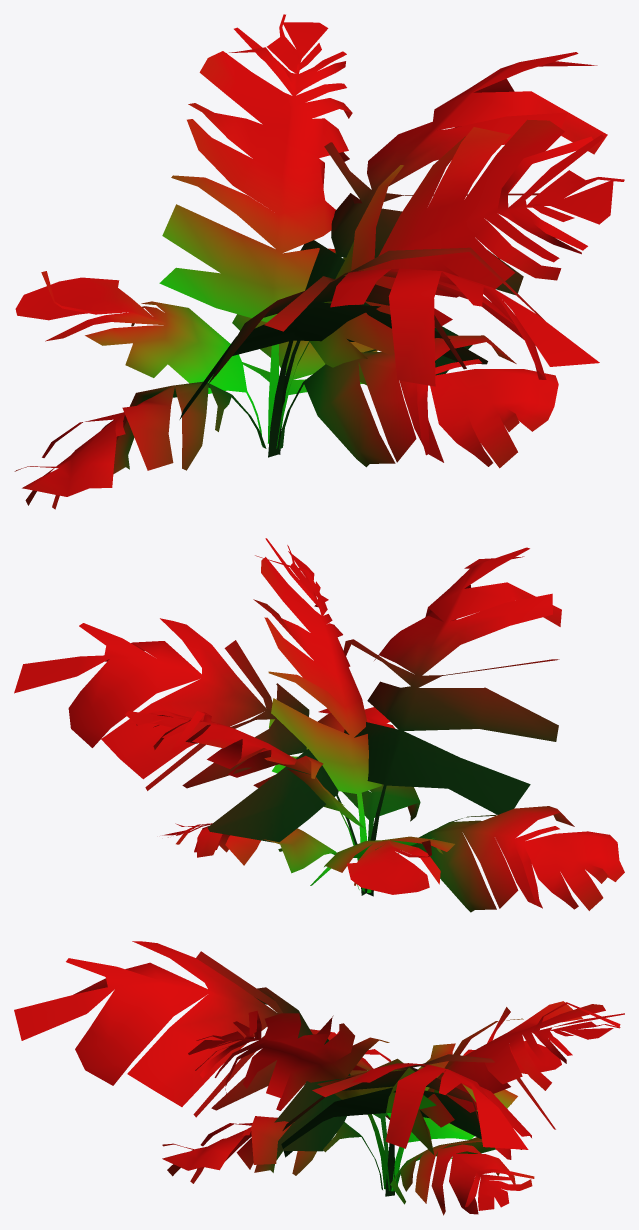
The model's file is Var3_LOD2.fbx.
3 views of the same model, one above another, from view 1: azimuth 30°, elevation 25°; view 2: azimuth 150°, elevation 25°; view 3: azimuth 270°, elevation 25° (orthographic). The views are drawn at different scales.
Visible parts, largest first — view 1: _3249_Var3_LOD2; view 2: _3249_Var3_LOD2; view 3: _3249_Var3_LOD2.
Boxes of the visible parts, left/top/right/bottom form: _3249_Var3_LOD2: left=14, top=14, right=624, bottom=509; _3249_Var3_LOD2: left=14, top=538, right=624, bottom=912; _3249_Var3_LOD2: left=14, top=941, right=624, bottom=1215.
Size of the model in its own units: 330 by 157 by 331.
